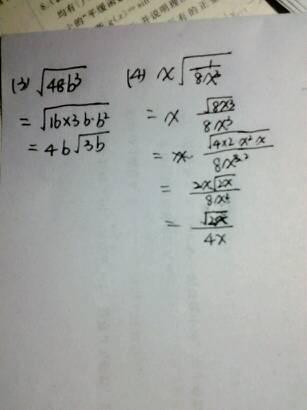division: (203, 143, 273, 157), (193, 107, 240, 117), (190, 223, 234, 232), (188, 187, 242, 194), (189, 63, 222, 71)
sqrt: (176, 50, 239, 87), (35, 104, 118, 129), (38, 63, 96, 96), (199, 94, 240, 133)
